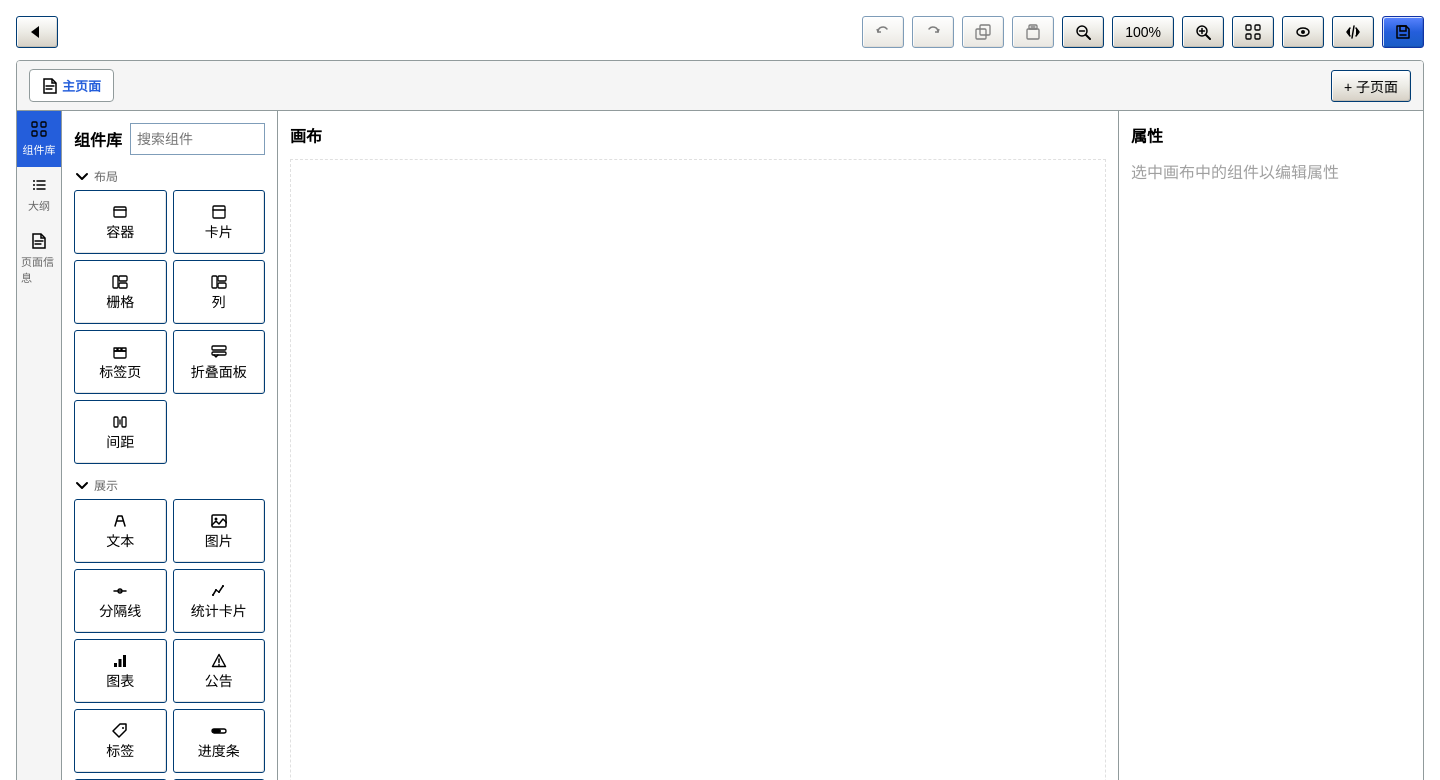
Test: WPageDesigner › 点击大纲按钮应切换到大纲面板
Step 1. Click the button with class "sidebar-btn" showing "大纲" → click(39, 194), box [28,177,50,212]
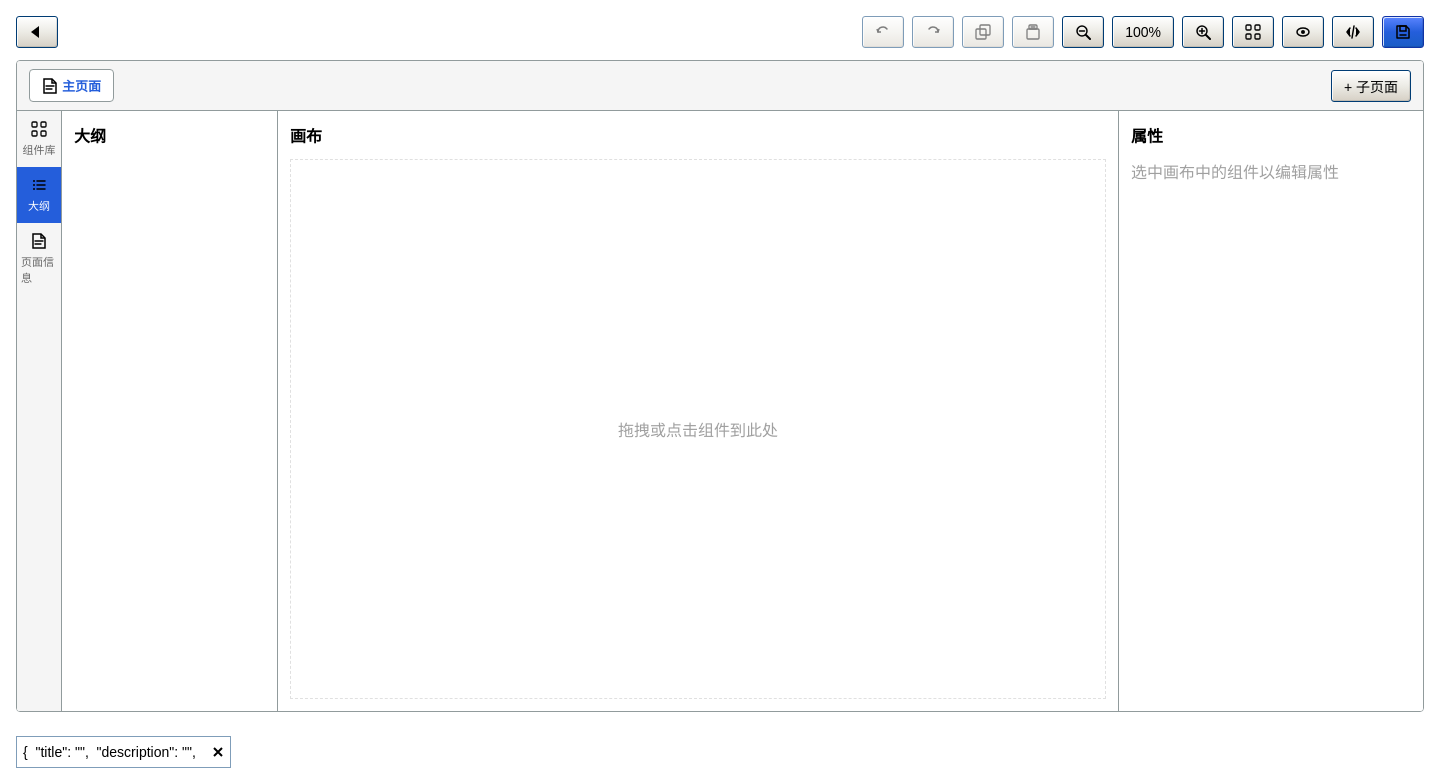
expect the element with class "outline-panel" is shown: met, box [74,128,106,145]
